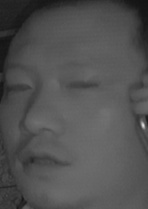blink: (67, 75, 99, 96), (4, 77, 34, 96)
mouth: (18, 144, 76, 179)
